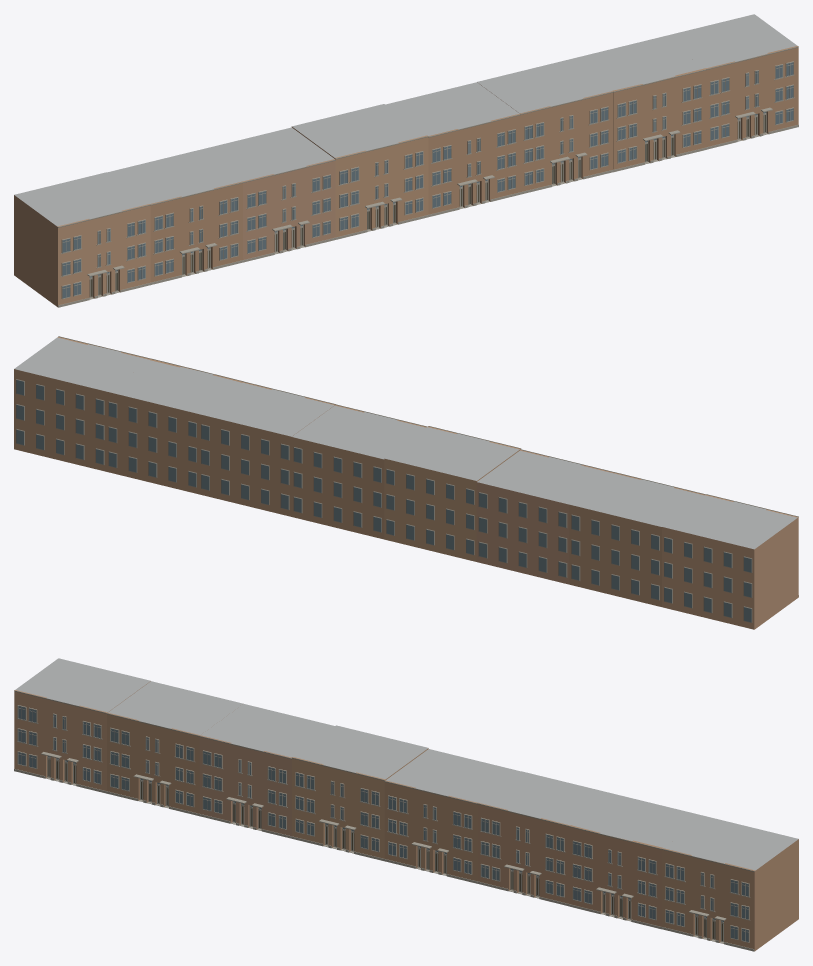
Rendered from chunk-face-callenburg-3-63.glb.
3 views of the same model, one above another, from view 1: azimuth 30°, elevation 25°; view 2: azimuth 150°, elevation 25°; view 3: azimuth 330°, elevation 25° (orthographic).
Visible parts, largest first — view 1: face-callenburg-3-63; view 2: face-callenburg-3-63; view 3: face-callenburg-3-63.
Part boxes in pixels (<box>): face-callenburg-3-63: <box>14,14,798,307</box>; face-callenburg-3-63: <box>14,336,798,629</box>; face-callenburg-3-63: <box>14,658,798,951</box>.
Size of the model in its own units: 103 by 10.79 by 11.32.
